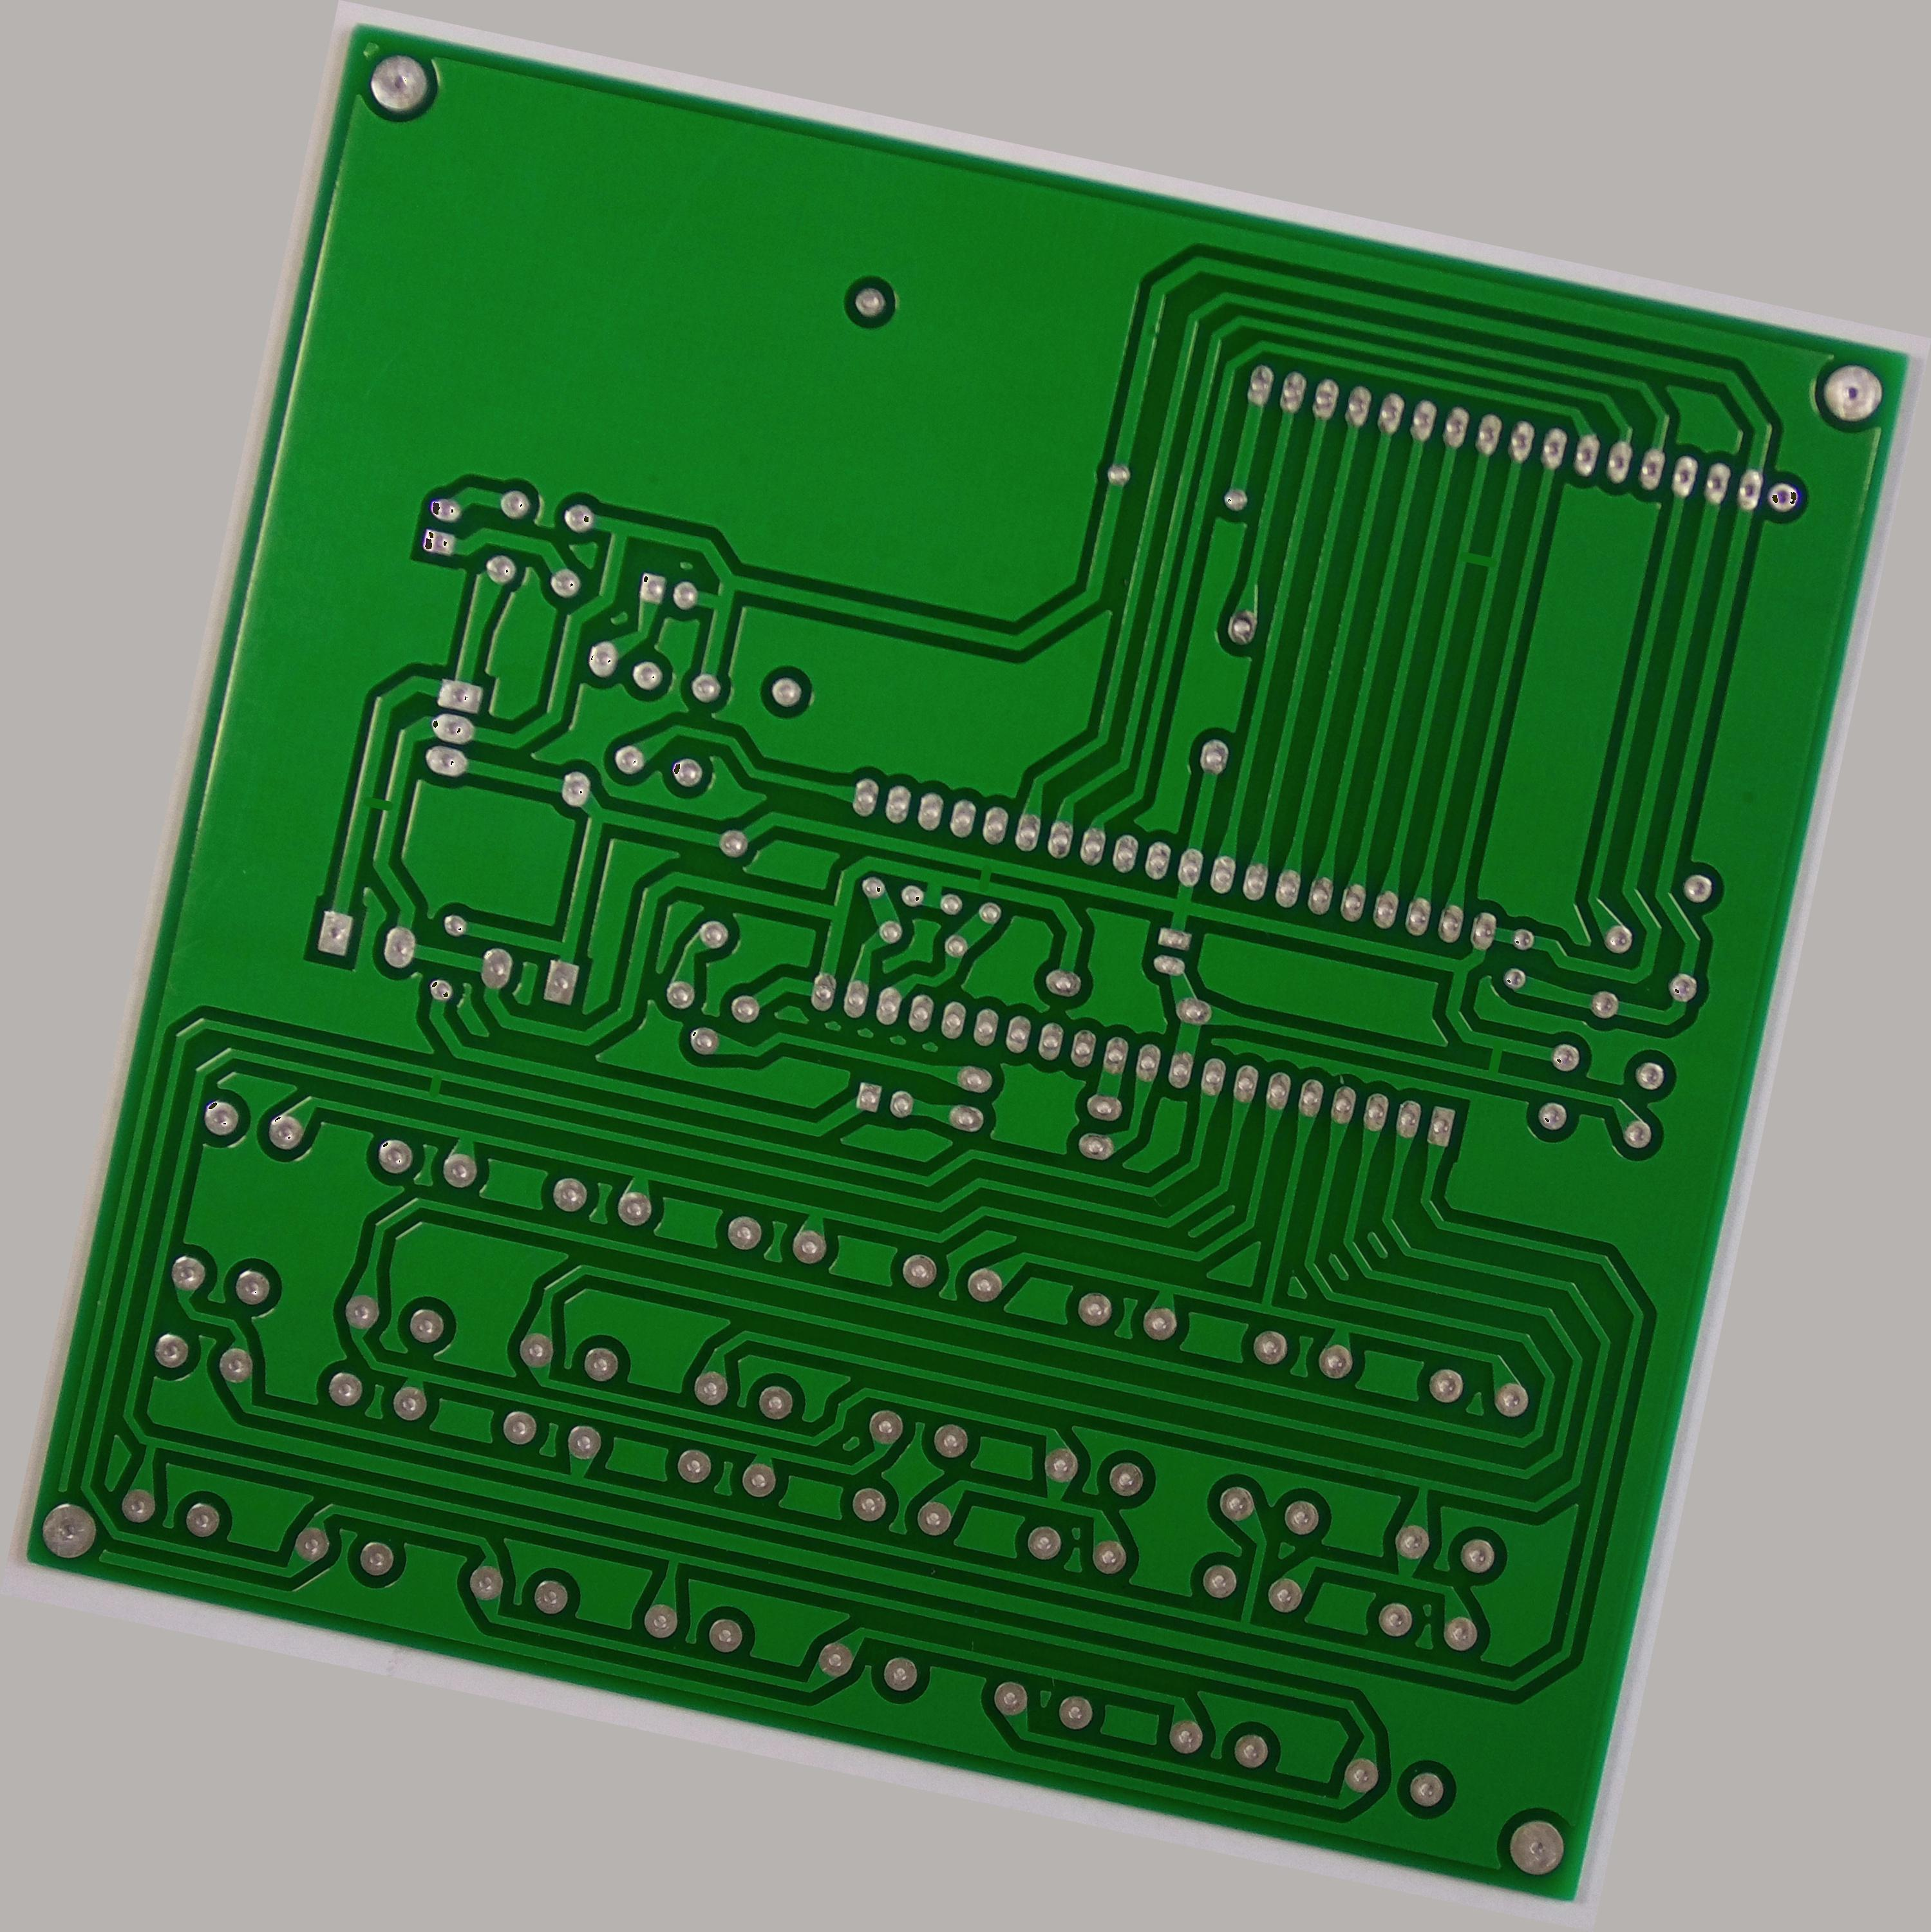short: (347, 775, 414, 828), (1469, 1023, 1521, 1092), (1445, 534, 1510, 586), (412, 1060, 454, 1111), (960, 849, 1004, 895)
